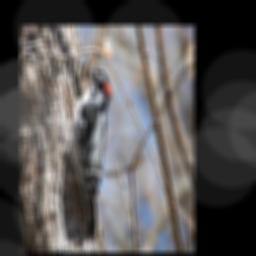Woodpecker: (68, 64, 112, 240)
